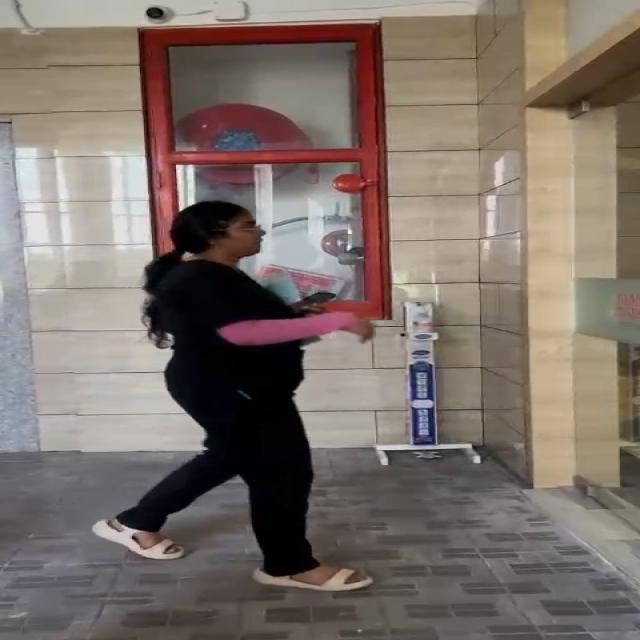door: (486, 37, 640, 521)
moving_object: (118, 201, 334, 594)
